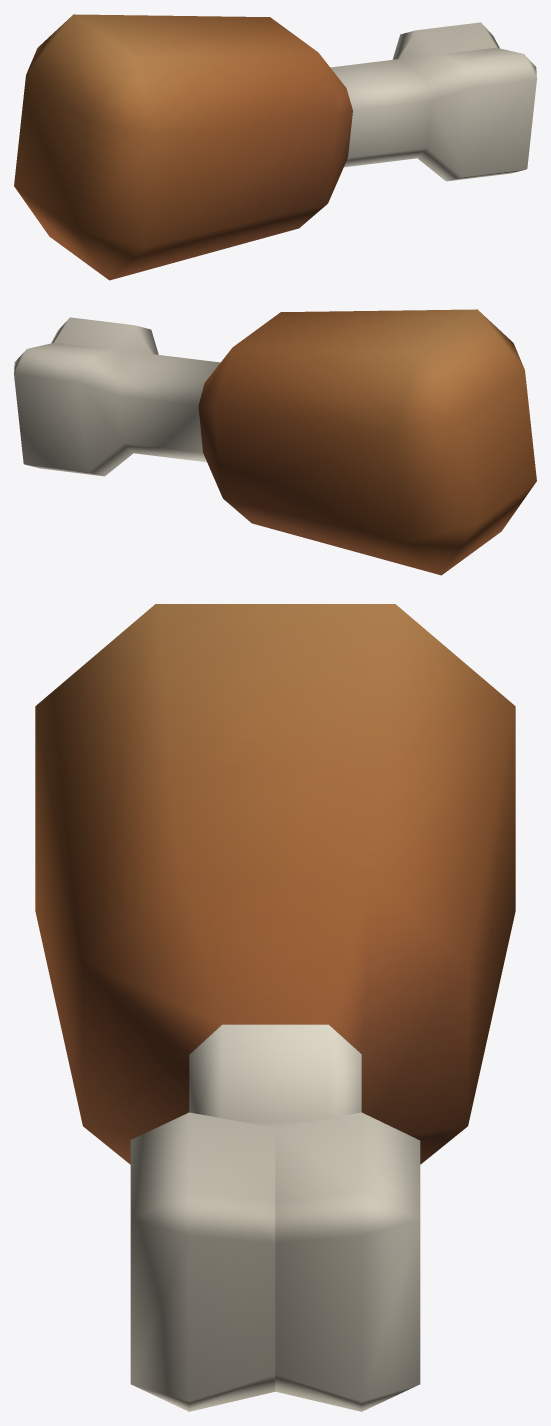
The model's file is chicken_drumstick.fbx.
3 views of the same model, one above another, from view 1: azimuth 30°, elevation 25°; view 2: azimuth 150°, elevation 25°; view 3: azimuth 270°, elevation 25° (orthographic). The views are drawn at different scales.
Parts seen in each view (by area): view 1: chicken_drumstick; view 2: chicken_drumstick; view 3: chicken_drumstick.
Boxes of the visible parts, box(x1,y1,x2,y2) form: chicken_drumstick: box(14, 14, 536, 280); chicken_drumstick: box(14, 309, 536, 575); chicken_drumstick: box(35, 604, 515, 1411).
Size of the model in its own units: 50.69 by 22.25 by 22.4.
